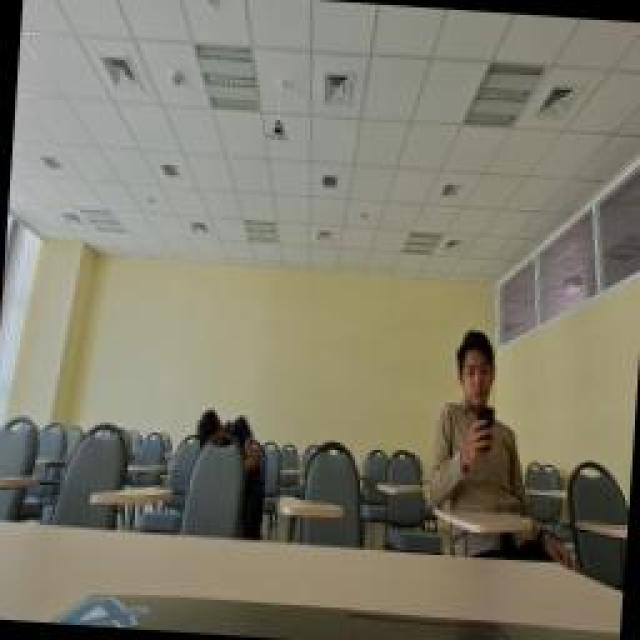phone: (420, 325, 542, 520)
sleep: (190, 398, 260, 478)
